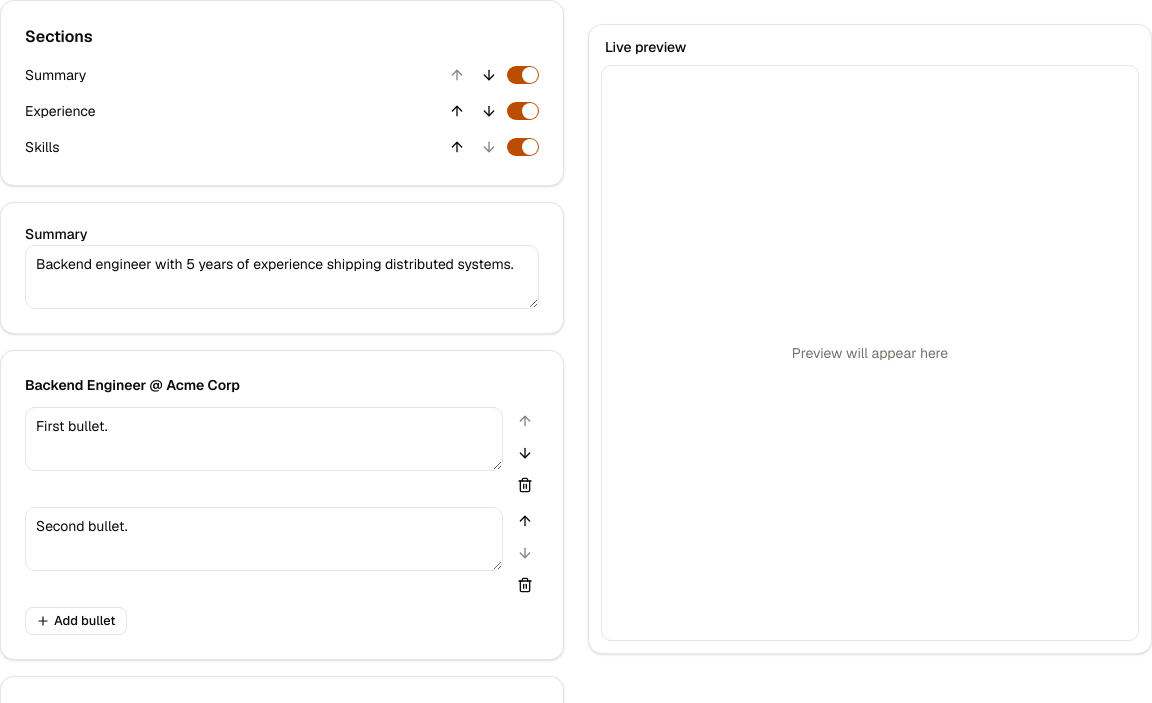
Test: ResumeReviewEditor › bullet editing controls › swaps two bullets in order when the down-arrow control is clicked on the first bullet
Click the 1st button named "Move bullet down" at (525, 453), box [511,439,539,467]
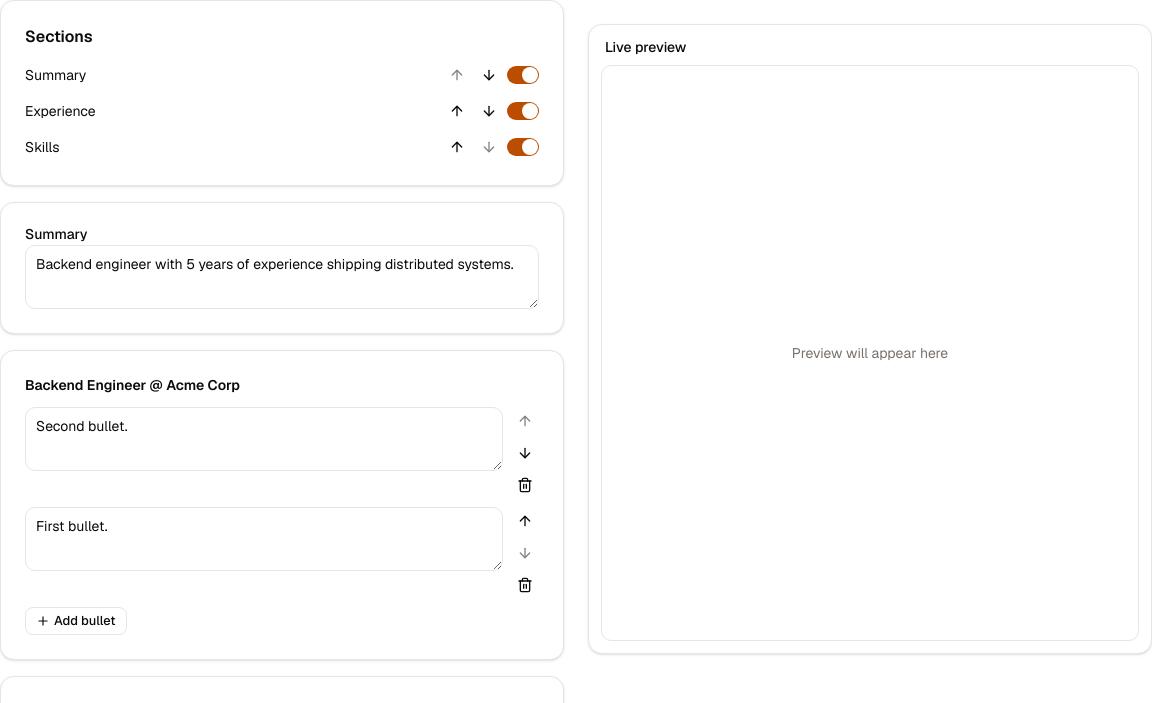
Expected: the 2nd text box holds "Second bullet.", [25,407,503,471]
Expected: the 3rd text box holds "First bullet.", [25,507,503,571]
